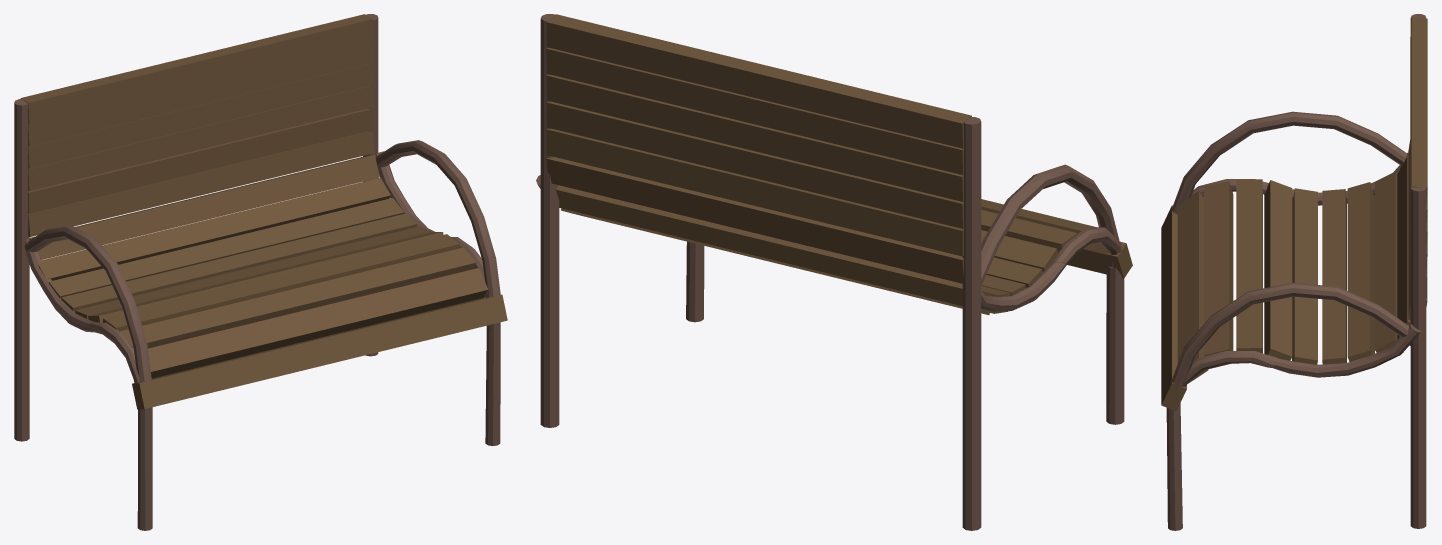
File: bankje.fbx
3 renders of one model, left to right at view 1: azimuth 30°, elevation 25°; view 2: azimuth 150°, elevation 25°; view 3: azimuth 270°, elevation 25°, orthographic. The views are drawn at different scales.
Visible parts, largest first — view 1: pCube8, pCube7, pCube16, pCube11, pCube6, pCube12, pCube10, pCube13, pCube14, pCube9, pCube15, pCube5 (+13 smaller); view 2: pCube16, pCube12, pCube11, pCube13, pCube14, pCube15, pCube10, pCylinder3, pCylinder13, pCylinder18, pCylinder11, pCube1 (+8 smaller); view 3: pCylinder13, pCube2, pCube6, pCube5, pCube1, pCube3, pCylinder19, pCube7, pCube4, pCylinder18, pCube9, pCube8 (+7 smaller).
Part boxes in pixels (<box>): pCube8: <box>132,294,507,409</box>; pCube7: <box>148,268,488,378</box>; pCube16: <box>20,14,373,124</box>; pCube11: <box>28,131,374,236</box>; pCube6: <box>119,247,475,348</box>; pCube12: <box>28,108,372,213</box>; pCube10: <box>28,154,379,262</box>; pCube13: <box>28,86,373,190</box>; pCube14: <box>28,63,373,168</box>; pCube9: <box>38,177,390,280</box>; pCube15: <box>28,41,373,146</box>; pCube5: <box>48,198,404,298</box>; pCube16: <box>546,14,971,148</box>; pCube12: <box>546,128,963,256</box>; pCube11: <box>546,157,963,283</box>; pCube13: <box>546,101,963,228</box>; pCube14: <box>546,74,963,201</box>; pCube15: <box>546,47,963,174</box>; pCube10: <box>555,185,962,305</box>; pCylinder3: <box>962,117,981,530</box>; pCylinder13: <box>540,14,559,427</box>; pCylinder18: <box>981,164,1119,285</box>; pCylinder11: <box>1106,266,1124,424</box>; pCube1: <box>981,209,1077,252</box>; pCylinder13: <box>1410,187,1426,528</box>; pCube2: <box>1264,180,1292,360</box>; pCube6: <box>1204,180,1233,369</box>; pCube5: <box>1347,182,1374,361</box>; pCube1: <box>1236,179,1262,353</box>; pCube3: <box>1292,188,1317,364</box>; pCylinder19: <box>1170,282,1408,395</box>; pCube7: <box>1177,191,1208,384</box>; pCube4: <box>1322,189,1346,364</box>; pCylinder18: <box>1170,111,1406,214</box>; pCube9: <box>1375,173,1403,352</box>; pCube8: <box>1161,205,1186,410</box>.
Size of the model in its own units: 6.44 by 5.65 by 4.01.
